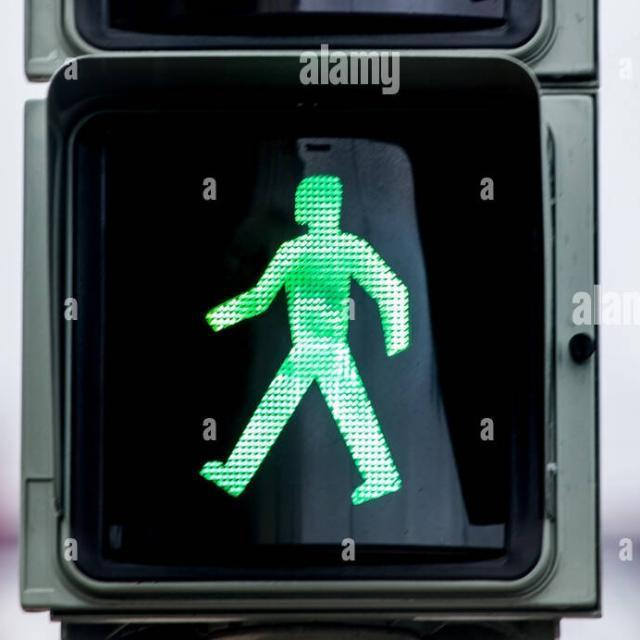geen-crossing: (229, 152, 408, 502)
